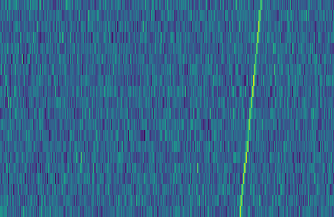signal: (237, 0, 268, 217)
